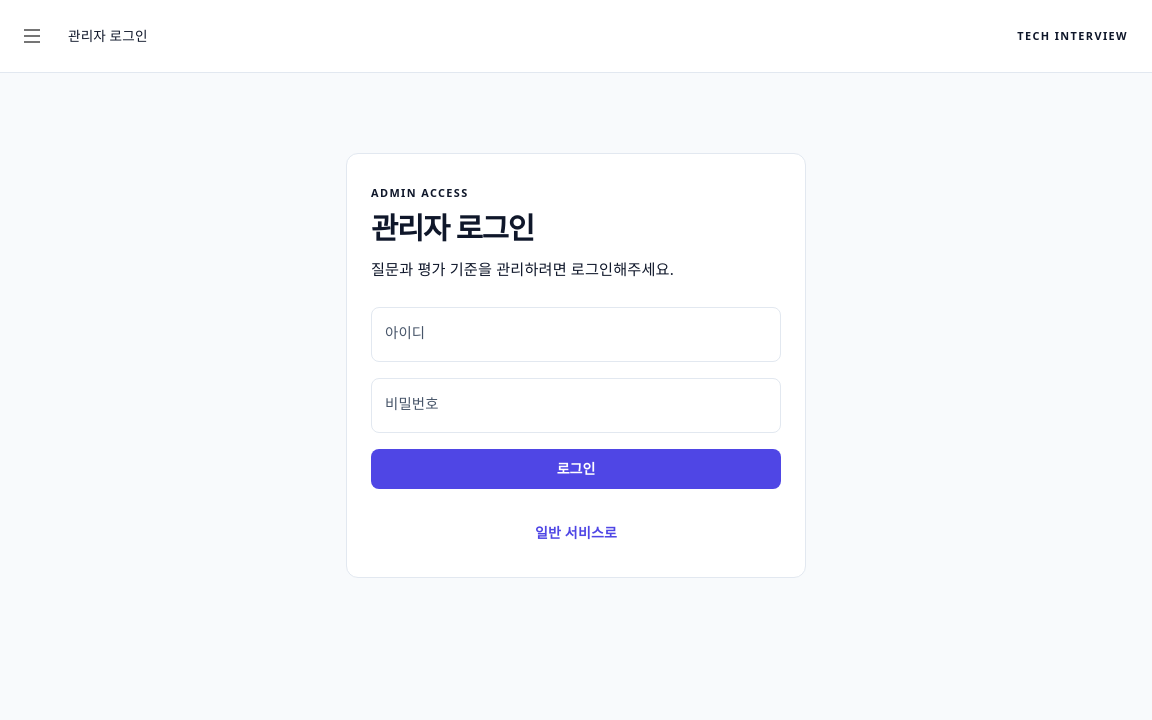
Test case: blocks immediate duplicate login and falls back from unsafe return locations
The width and height of the screenshot is (1152, 720).
Type "admin" into the field labelled "아이디" at (576, 335), box left=371, top=307, right=781, bottom=362
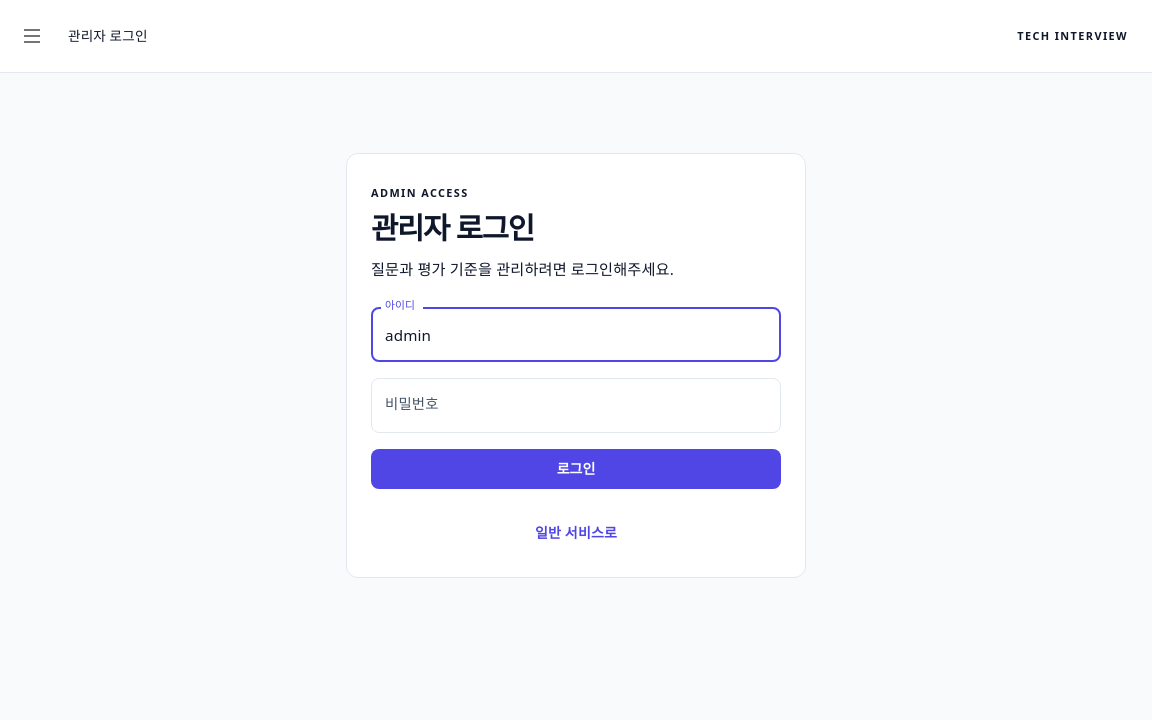
Type "test-password" into the password field labelled "비밀번호" at (576, 406), box left=371, top=378, right=781, bottom=433
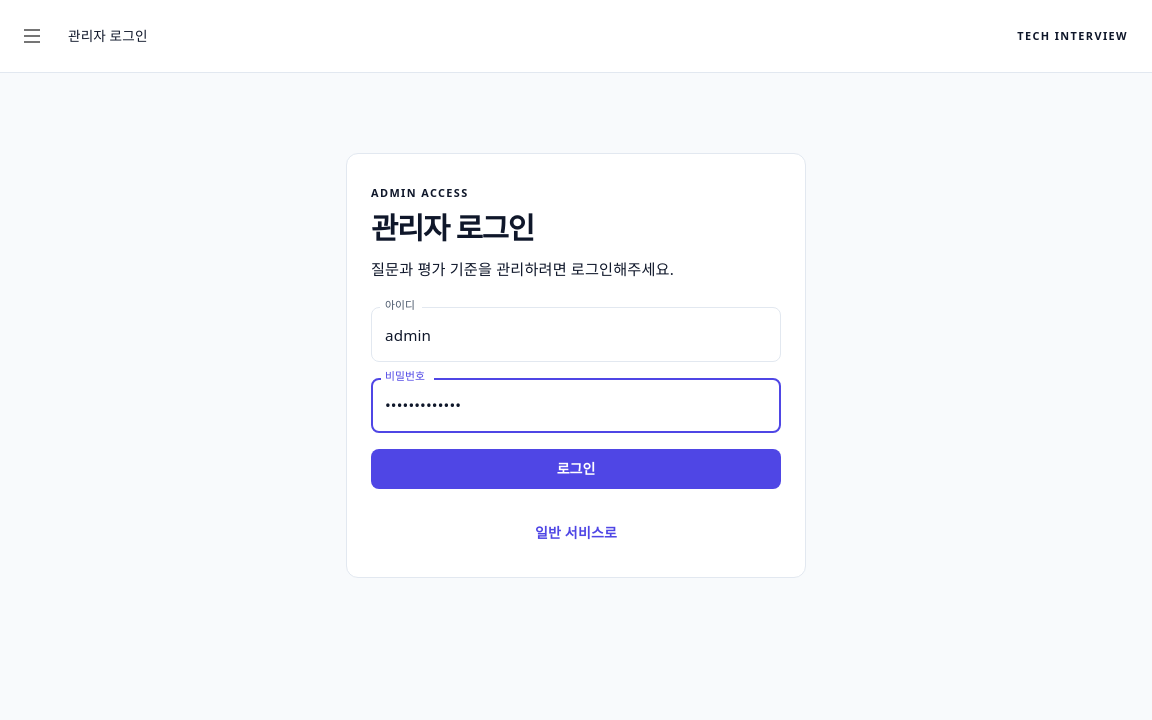
Submit the form named "관리자 로그인", box left=371, top=307, right=781, bottom=489
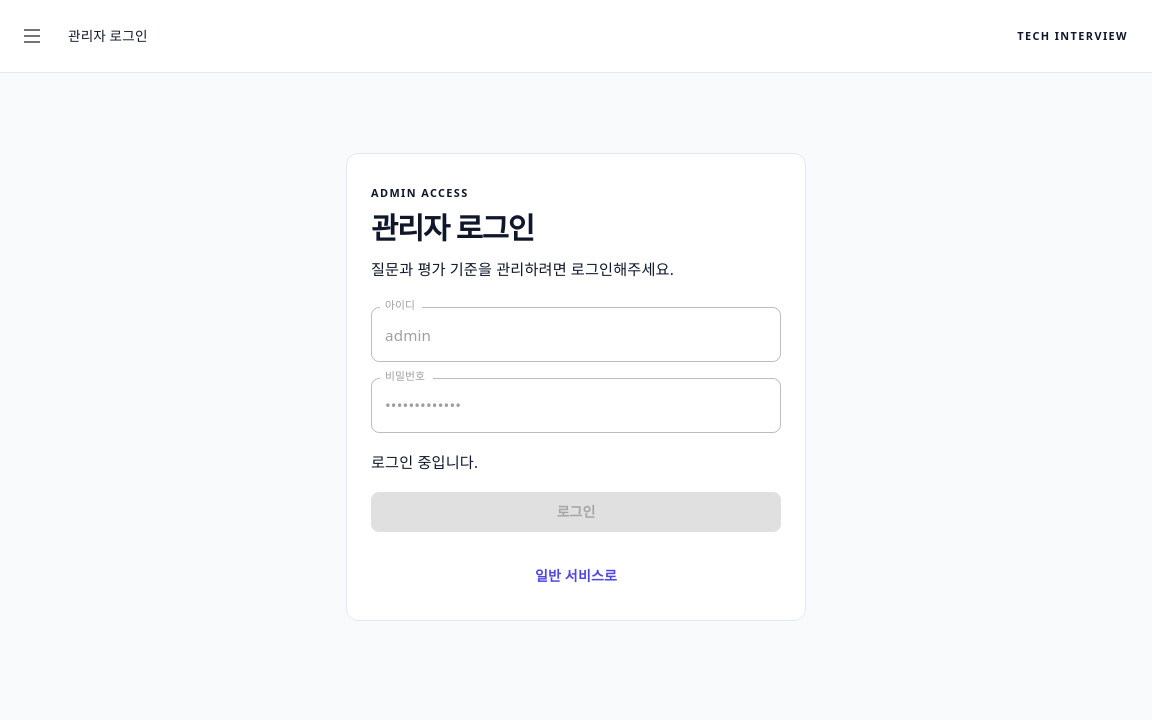
Submit the form named "관리자 로그인", box left=371, top=307, right=781, bottom=532
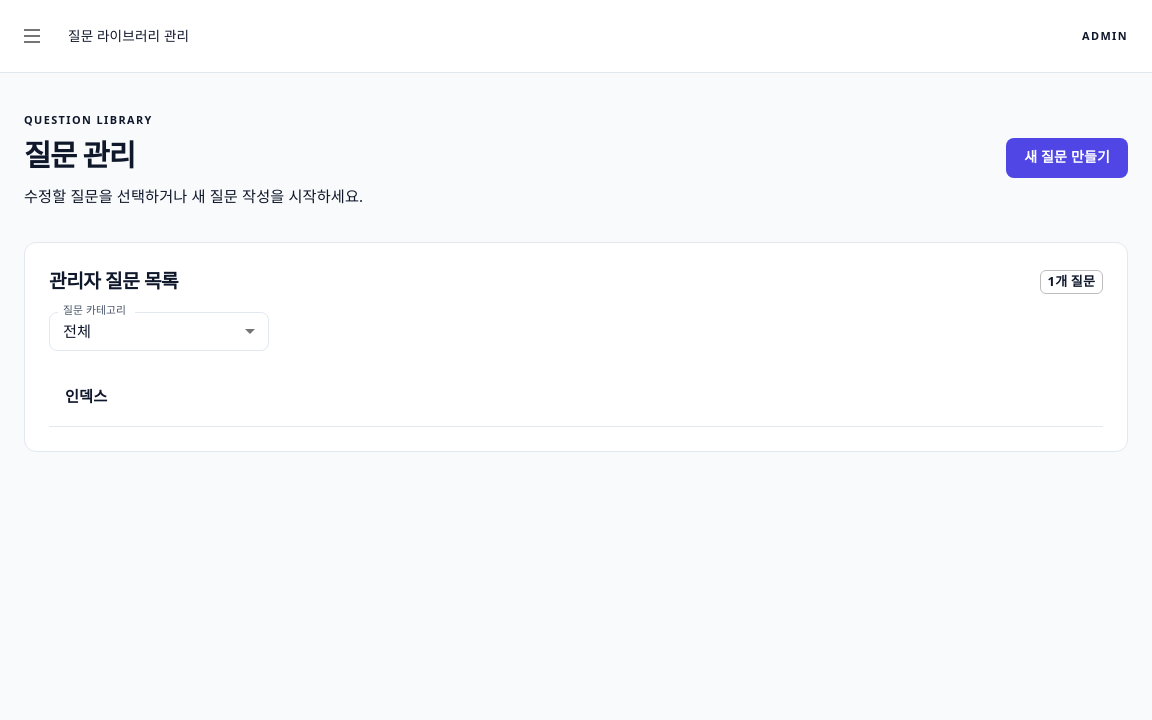
Check: the list named "관리자 질문 목록" is shown, box left=49, top=367, right=1103, bottom=427
